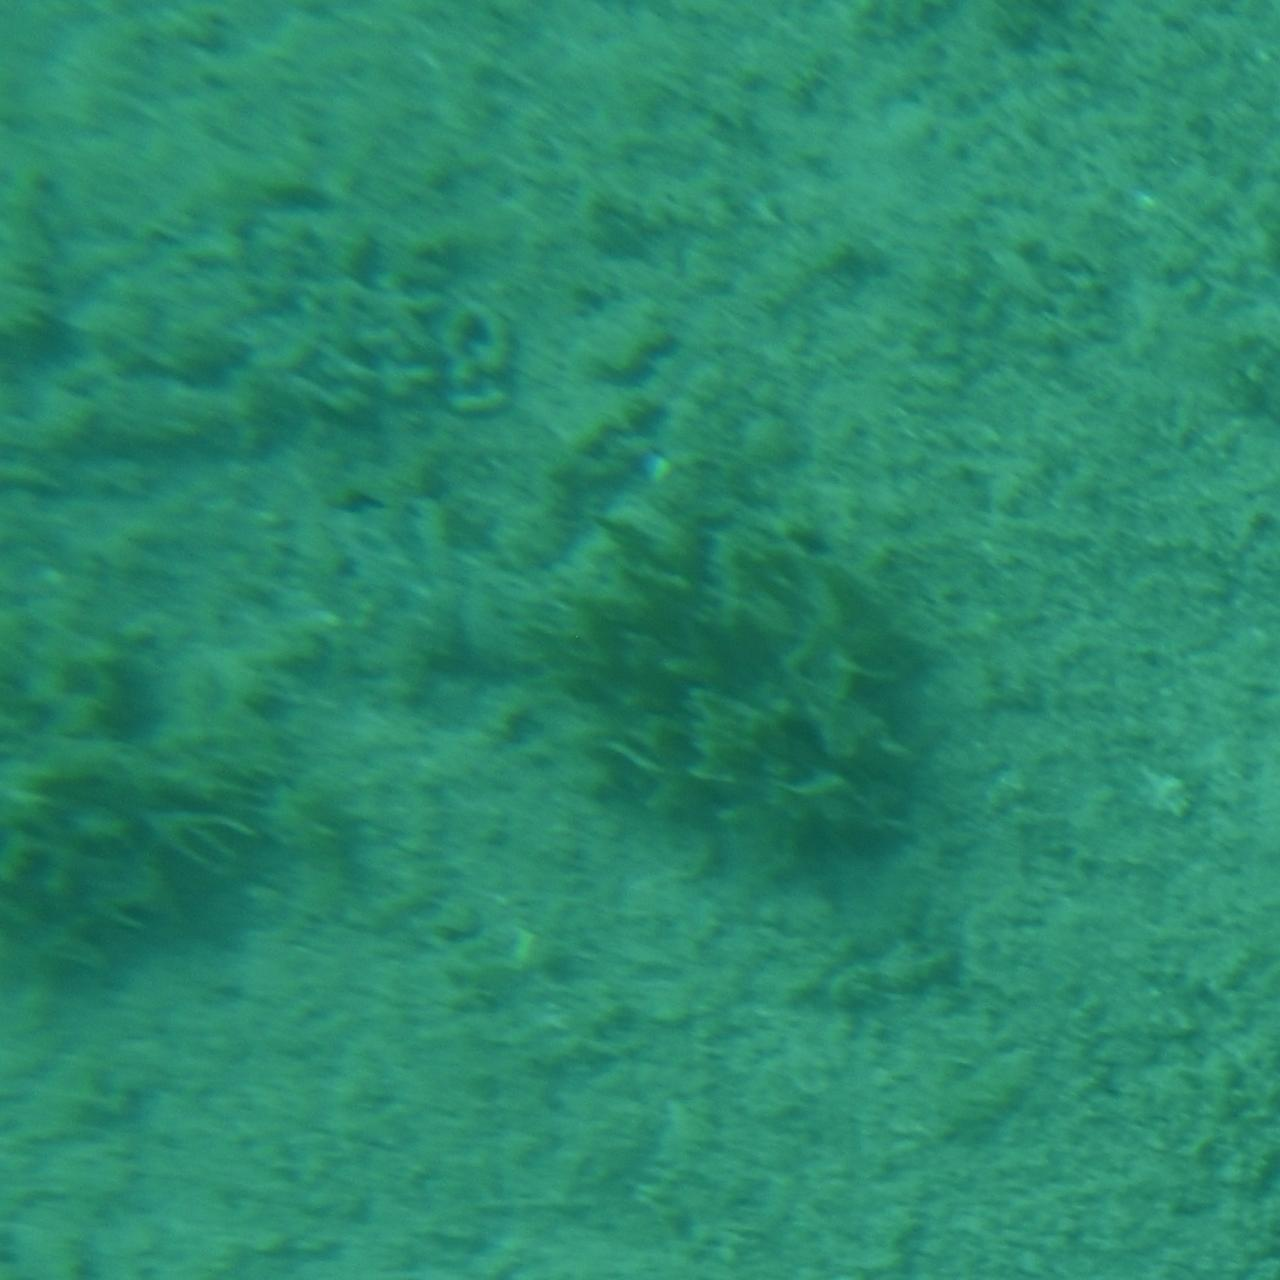Holothuria tubulosa: (324, 472, 715, 697)
Phaeophyceae -cfr Cystoseira-: (577, 513, 935, 877)
